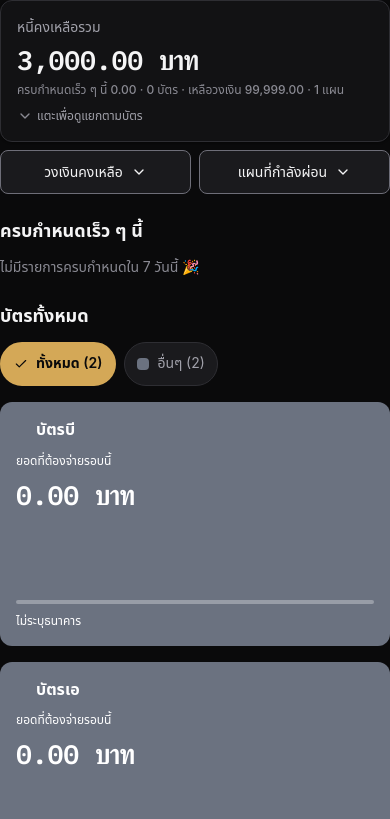
Test: CreditCardDashboard KPI drill-down › credit and plans panels (phase 2) › mobile buttons sit outside the summary button and toggle their panels
The width and height of the screenshot is (390, 819).
Step 1. Click the button "วงเงินคงเหลือ" → (96,172), box 0,150 -> 191,194
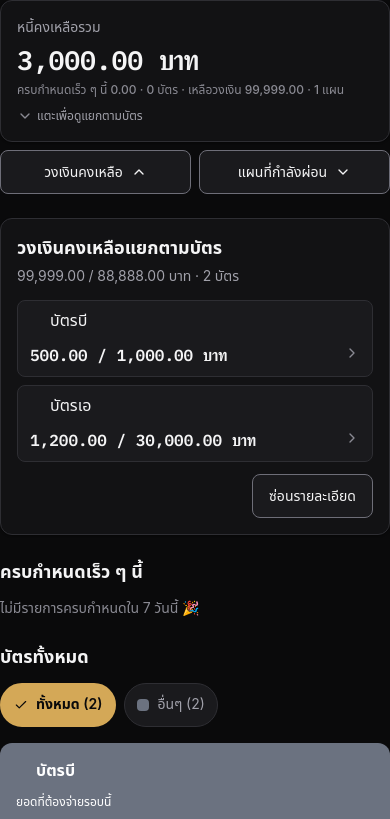
Expected: the element "วงเงินคงเหลือแยกตามบัตร" is shown, 0,218 -> 389,536
Step 2. Click the button "แผนที่กำลังผ่อน" → (294,172), box 199,150 -> 389,194
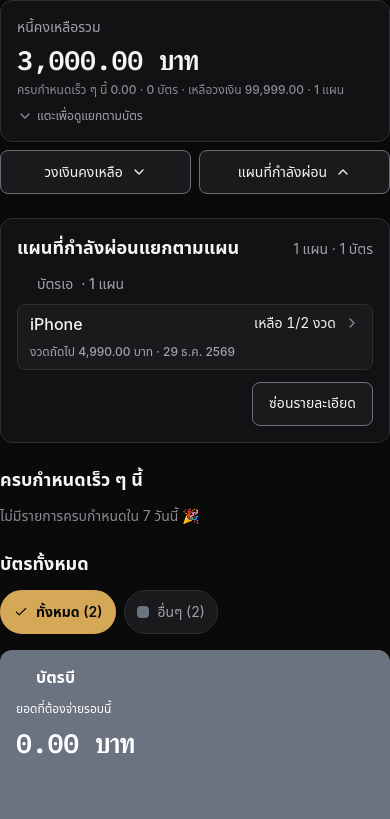
Expected: the element "แผนที่กำลังผ่อนแยกตามแผน" is shown, 0,218 -> 389,443
